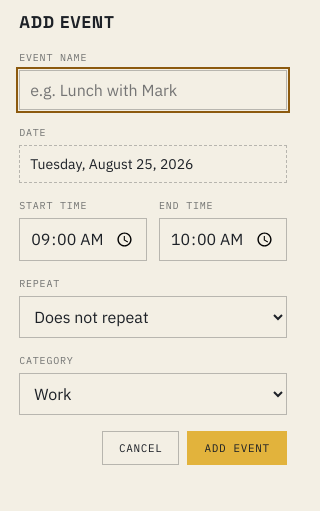
Scenario: AddEventForm › rejects an end time that is not after the start time
Type "Lunch" into the field labelled "Event name" at (153, 90), box x1=19 y1=70 x2=287 y2=110
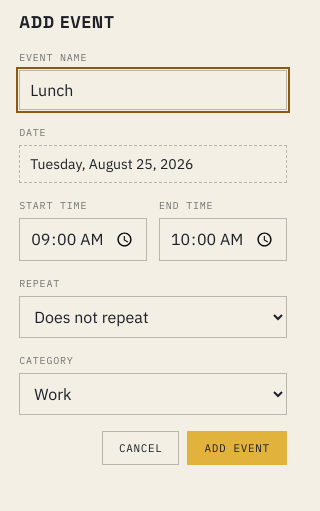
Replace the text in the time field labelled "End time" with "08:00" at (223, 239), box x1=159 y1=218 x2=287 y2=261
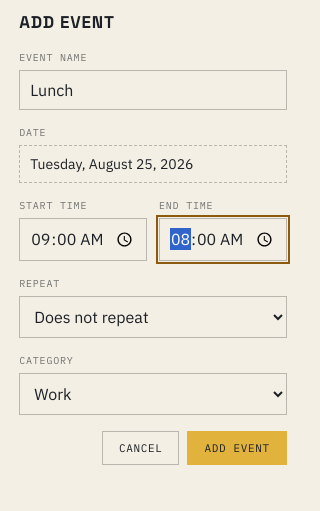
Click the button "Add Event" at (237, 448), box x1=188 y1=431 x2=287 y2=465
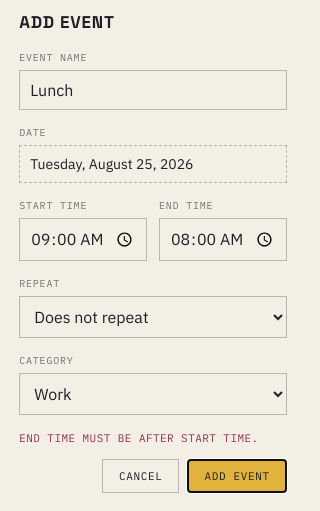
Expected: the message shows "End time must be after", x1=19 y1=431 x2=259 y2=445
